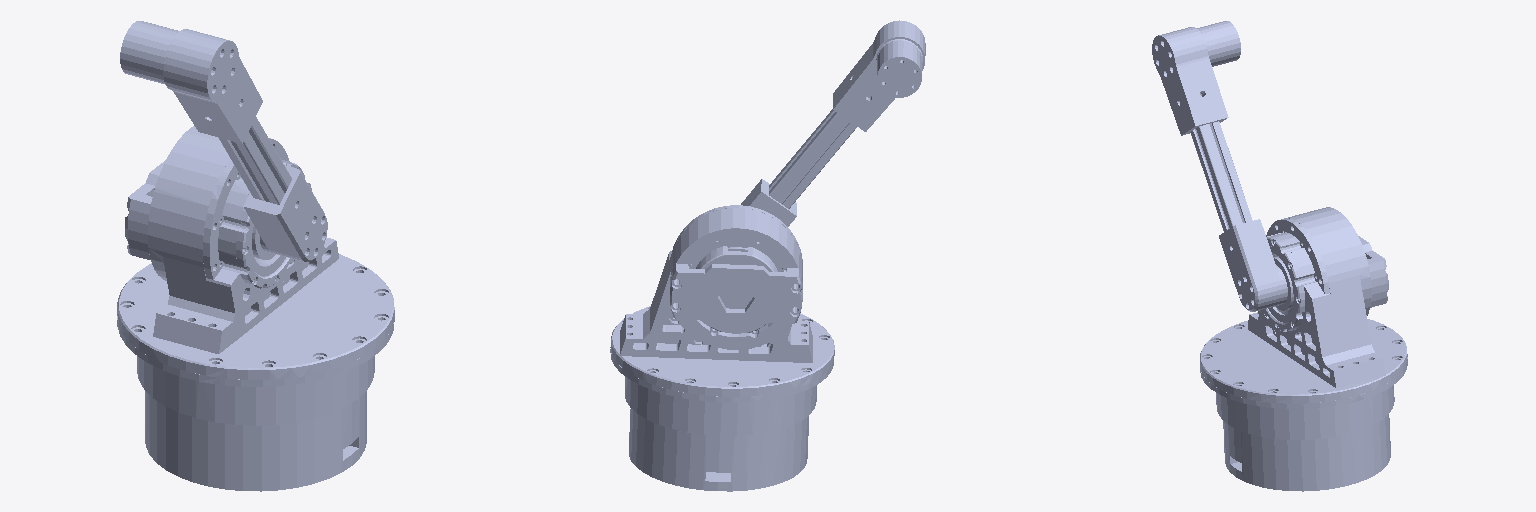
robot.urdf — pallet:
<?xml version="1.0" encoding="utf-8"?>
<!-- This URDF was automatically created by SolidWorks to URDF Exporter! Originally created by Stephen Brawner (brawner@gmail.com) 
     Commit Version: 1.6.0-4-g7f85cfe  Build Version: 1.6.7995.38578
     For more information, please see http://wiki.ros.org/sw_urdf_exporter -->
<robot
  name="pallet">
  <link
    name="base_footprint" />
  <joint
    name="base_footprint_joint"
    type="fixed">
    <origin
      xyz="0 0 0"
      rpy="0 0 0" />
    <parent
      link="base_footprint" />
    <child
      link="base_link" />
  </joint>
  <link
    name="base_link">
    <inertial>
      <origin
        xyz="-0.000893653 -0.00158262 0.040187651"
        rpy="0 0 0" />
      <mass
        value="1.541" />
      <inertia
        ixx="0.002319617"
        ixy="-4.15E-05"
        ixz="1.04E-05"
        iyy="0.004140731"
        iyz="7.15E-05"
        izz="0.002335609" />
    </inertial>
    <visual>
      <origin
        xyz="-1.1843 -0.90272 0.59122"
        rpy="0 0 0" />
      <geometry>
        <mesh
          filename="package://pallet/meshes/base_link.STL" />
      </geometry>
      <material
        name="">
        <color
          rgba="0.792156863 0.819607843 0.933333333 1" />
      </material>
    </visual>
    <collision>
      <origin
        xyz="-1.1843 -0.90272 0.59122"
        rpy="0 0 0" />
      <geometry>
        <mesh
          filename="package://pallet/meshes/collision/base_link_collision.obj" />
      </geometry>
    </collision>
  </link>
  <link
    name="L2">
    <inertial>
      <origin
        xyz="-0.0050393 0.11601 0.0012452"
        rpy="0 0 0" />
      <mass
        value="1.549" />
      <inertia
        ixx="0.00302978"
        ixy="4.49E-05"
        ixz="1.13E-05"
        iyy="0.003662856"
        iyz="-7.43E-05"
        izz="0.002181075" />
    </inertial>
    <visual>
      <origin
        xyz="0 0 0"
        rpy="0 0 0" />
      <geometry>
        <mesh
          filename="package://pallet/meshes/L2.STL" />
      </geometry>
      <material
        name="">
        <color
          rgba="0.79216 0.81961 0.93333 1" />
      </material>
    </visual>
    <collision>
      <origin
        xyz="0 0 0"
        rpy="0 0 0" />
      <geometry>
        <mesh
          filename="package://pallet/meshes/collision/L2_collision.obj" />
      </geometry>
    </collision>
  </link>
  <joint
    name="j1"
    type="revolute">
    <origin
      xyz="0 0 0"
      rpy="1.6099 0 -1.0512" />
    <parent
      link="base_link" />
    <child
      link="L2" />
    <axis
      xyz="0.023014 0.99974 0" />
    <!-- RobStride RS00 rated operating point: 5 Nm at 100 rpm. -->
    <limit
      lower="-3.14"
      upper="3.14"
      effort="5"
      velocity="10.471976" />
  </joint>
  <link
    name="L3">
    <inertial>
      <origin
        xyz="-0.12168 1.70E-05 0.029741"
        rpy="0 0 0" />
      <mass
        value="0.183" />
      <inertia
        ixx="6.02E-05"
        ixy="-3.19E-12"
        ixz="-6.94E-06"
        iyy="0.000192401"
        iyz="-1.89E-12"
        izz="0.000167404" />
    </inertial>
    <visual>
      <origin
        xyz="0 0 0"
        rpy="0 0 0" />
      <geometry>
        <mesh
          filename="package://pallet/meshes/L3.STL" />
      </geometry>
      <material
        name="">
        <color
          rgba="0.79216 0.81961 0.93333 1" />
      </material>
    </visual>
    <collision>
      <origin
        xyz="0 0 0"
        rpy="0 0 0" />
      <geometry>
        <mesh
          filename="package://pallet/meshes/collision/L3_collision.obj" />
      </geometry>
    </collision>
  </link>
  <joint
    name="j2"
    type="revolute">
    <origin
      xyz="0.0012123 0.16129 0.0080631"
      rpy="-1.5708 0.61077 -1.5938" />
    <parent
      link="L2" />
    <child
      link="L3" />
    <!-- Set to the requested Z-axis rotation for L3; verify in RViz. -->
    <axis
      xyz="0 0 1" />
    <!-- Provisional geometric limit from a 1-degree collision sweep with 5 mm clearance. -->
    <!-- RobStride RS06 rated operating point: 11 Nm at 100 rpm. -->
    <limit
      lower="-2.757620"
      upper="1.623156"
      effort="11"
      velocity="10.471976" />
  </joint>
  <link
    name="L4">
    <inertial>
      <origin
        xyz="-0.0050366 0.00011303 0.054191"
        rpy="0 0 0" />
      <mass
        value="1.004" />
      <inertia
        ixx="0.000849592"
        ixy="2.51E-07"
        ixz="-6.65878E-05"
        iyy="0.000834376"
        iyz="-2.10E-07"
        izz="0.000157448" />
    </inertial>
    <visual>
      <origin
        xyz="0 0 0"
        rpy="0 0 0" />
      <geometry>
        <mesh
          filename="package://pallet/meshes/L4.STL" />
      </geometry>
      <material
        name="">
        <color
          rgba="0.79216 0.81961 0.93333 1" />
      </material>
    </visual>
    <collision>
      <origin
        xyz="0 0 0"
        rpy="0 0 0" />
      <geometry>
        <mesh
          filename="package://pallet/meshes/collision/L4_collision.obj" />
      </geometry>
    </collision>
  </link>
  <joint
    name="j3"
    type="revolute">
    <origin
      xyz="-0.2105 0 -0.0068993"
      rpy="1.9138 -1.5708 -0.15545" />
    <parent
      link="L3" />
    <child
      link="L4" />
    <!-- Set to the requested X-axis rotation for L4; verify in RViz. -->
    <axis
      xyz="1 0 0" />
    <!-- Provisional geometric limit from a 1-degree collision sweep with 5 mm clearance. -->
    <!-- RobStride RS00 rated operating point: 5 Nm at 100 rpm. -->
    <limit
      lower="-3.14"
      upper="0.802851"
      effort="5"
      velocity="10.471976" />
  </joint>
  <link
    name="L5">
    <inertial>
      <origin
        xyz="-0.0013461 4.12E-05 0.030198"
        rpy="0 0 0" />
      <mass
        value="0.447" />
      <inertia
        ixx="1.70E-04"
        ixy="-3.68E-07"
        ixz="1.47E-05"
        iyy="1.94E-04"
        iyz="1.81E-08"
        izz="1.74E-04" />
    </inertial>
    <visual>
      <origin
        xyz="0 0 0"
        rpy="0 0 0" />
      <geometry>
        <mesh
          filename="package://pallet/meshes/L5.STL" />
      </geometry>
      <material
        name="">
        <color
          rgba="0.79216 0.81961 0.93333 1" />
      </material>
    </visual>
    <collision>
      <origin
        xyz="0 0 0"
        rpy="0 0 0" />
      <geometry>
        <mesh
          filename="package://pallet/meshes/collision/L5_collision.obj" />
      </geometry>
    </collision>
  </link>
  <joint
    name="j4"
    type="revolute">
    <origin
      xyz="0.006 0 0.205"
      rpy="0 0 0.0076608" />
    <parent
      link="L4" />
    <child
      link="L5" />
    <!-- Inferred from the wrist geometry. Verify against the CAD reference axis. -->
    <axis
      xyz="0 0 1" />
    <!-- RobStride RS05 rated operating point: 1.8 Nm at 100 rpm. -->
    <limit
      lower="-3.14"
      upper="3.14"
      effort="1.8"
      velocity="10.471976" />
  </joint>
  <link
    name="L6">
    <inertial>
      <origin
        xyz="-0.035683 -1.52E-05 0.046062"
        rpy="0 0 0" />
      <mass
        value="0.14745" />
      <inertia
        ixx="1.25E-04"
        ixy="-1.14E-06"
        ixz="1.75E-05"
        iyy="1.40E-04"
        iyz="8.20E-08"
        izz="1.47E-04" />
    </inertial>
    <visual>
      <origin
        xyz="0 0 0"
        rpy="0 0 0" />
      <geometry>
        <mesh
          filename="package://pallet/meshes/L6.STL" />
      </geometry>
      <material
        name="">
        <color
          rgba="0.79216 0.81961 0.93333 1" />
      </material>
    </visual>
    <collision>
      <origin
        xyz="0 0 0"
        rpy="0 0 0" />
      <geometry>
        <mesh
          filename="package://pallet/meshes/collision/L6_collision.obj" />
      </geometry>
    </collision>
  </link>
  <joint
    name="j5"
    type="revolute">
    <origin
      xyz="0.0357 0 0.042"
      rpy="-0.87843 0 0" />
    <parent
      link="L5" />
    <child
      link="L6" />
    <!-- Set to the requested X-axis rotation for L6; verify in RViz. -->
    <axis
      xyz="1 0 0" />
    <!-- Provisional geometric limit from a 1-degree collision sweep with 5 mm clearance. -->
    <!-- RobStride RS05 rated operating point: 1.8 Nm at 100 rpm. -->
    <limit
      lower="-0.785398"
      upper="2.548181"
      effort="1.8"
      velocity="10.471976" />
  </joint>
  <!-- Mechanical mounting frame at the center of the L6 output flange. -->
  <link
    name="tool0" />
  <joint
    name="tool0_joint"
    type="fixed">
    <origin
      xyz="-0.0755 0 0"
      rpy="0 -1.57079632679 0" />
    <parent
      link="L6" />
    <child
      link="tool0" />
  </joint>
  <!-- Temporary TCP; offset this frame when the end-effector geometry is known. -->
  <link
    name="tcp" />
  <joint
    name="tcp_joint"
    type="fixed">
    <origin
      xyz="0 0 0"
      rpy="0 0 0" />
    <parent
      link="tool0" />
    <child
      link="tcp" />
  </joint>
</robot>

--- What the picture shows (computed from the rendered views, not written in the file) ---
3 views of the same robot in one strip: view 1: azimuth 30°, elevation 25°; view 2: azimuth 150°, elevation 25°; view 3: azimuth 270°, elevation 25° (orthographic).
Robot: pallet — 9 links, 8 joints (5 revolute, 3 fixed); root link base_footprint; default pose: every joint at zero.
Links seen in each view (by area): view 1: L2, L3, base_link; view 2: L2, L3, base_link; view 3: L2, L3, base_link.
Boxes of the visible links, x1,y1,x2,y2 form: L2: [117, 126, 394, 425]; L3: [120, 21, 327, 261]; base_link: [145, 391, 366, 491]; L2: [610, 205, 834, 435]; L3: [741, 20, 925, 226]; base_link: [629, 409, 808, 491]; L2: [1200, 207, 1407, 439]; L3: [1152, 21, 1287, 311]; base_link: [1223, 414, 1390, 491].
Bounding box of the posed robot: 0.2269 × 0.2154 × 0.3511 m (x, y, z).
Meshes: 6 distinct files referenced, 3 mesh visuals loaded (3 binary STL); not drawn: 3 (reference not matched to a file when rendering).
